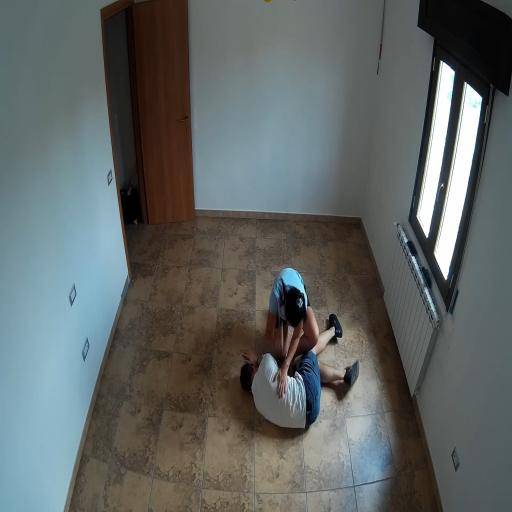violencia: (227, 248, 368, 440)
